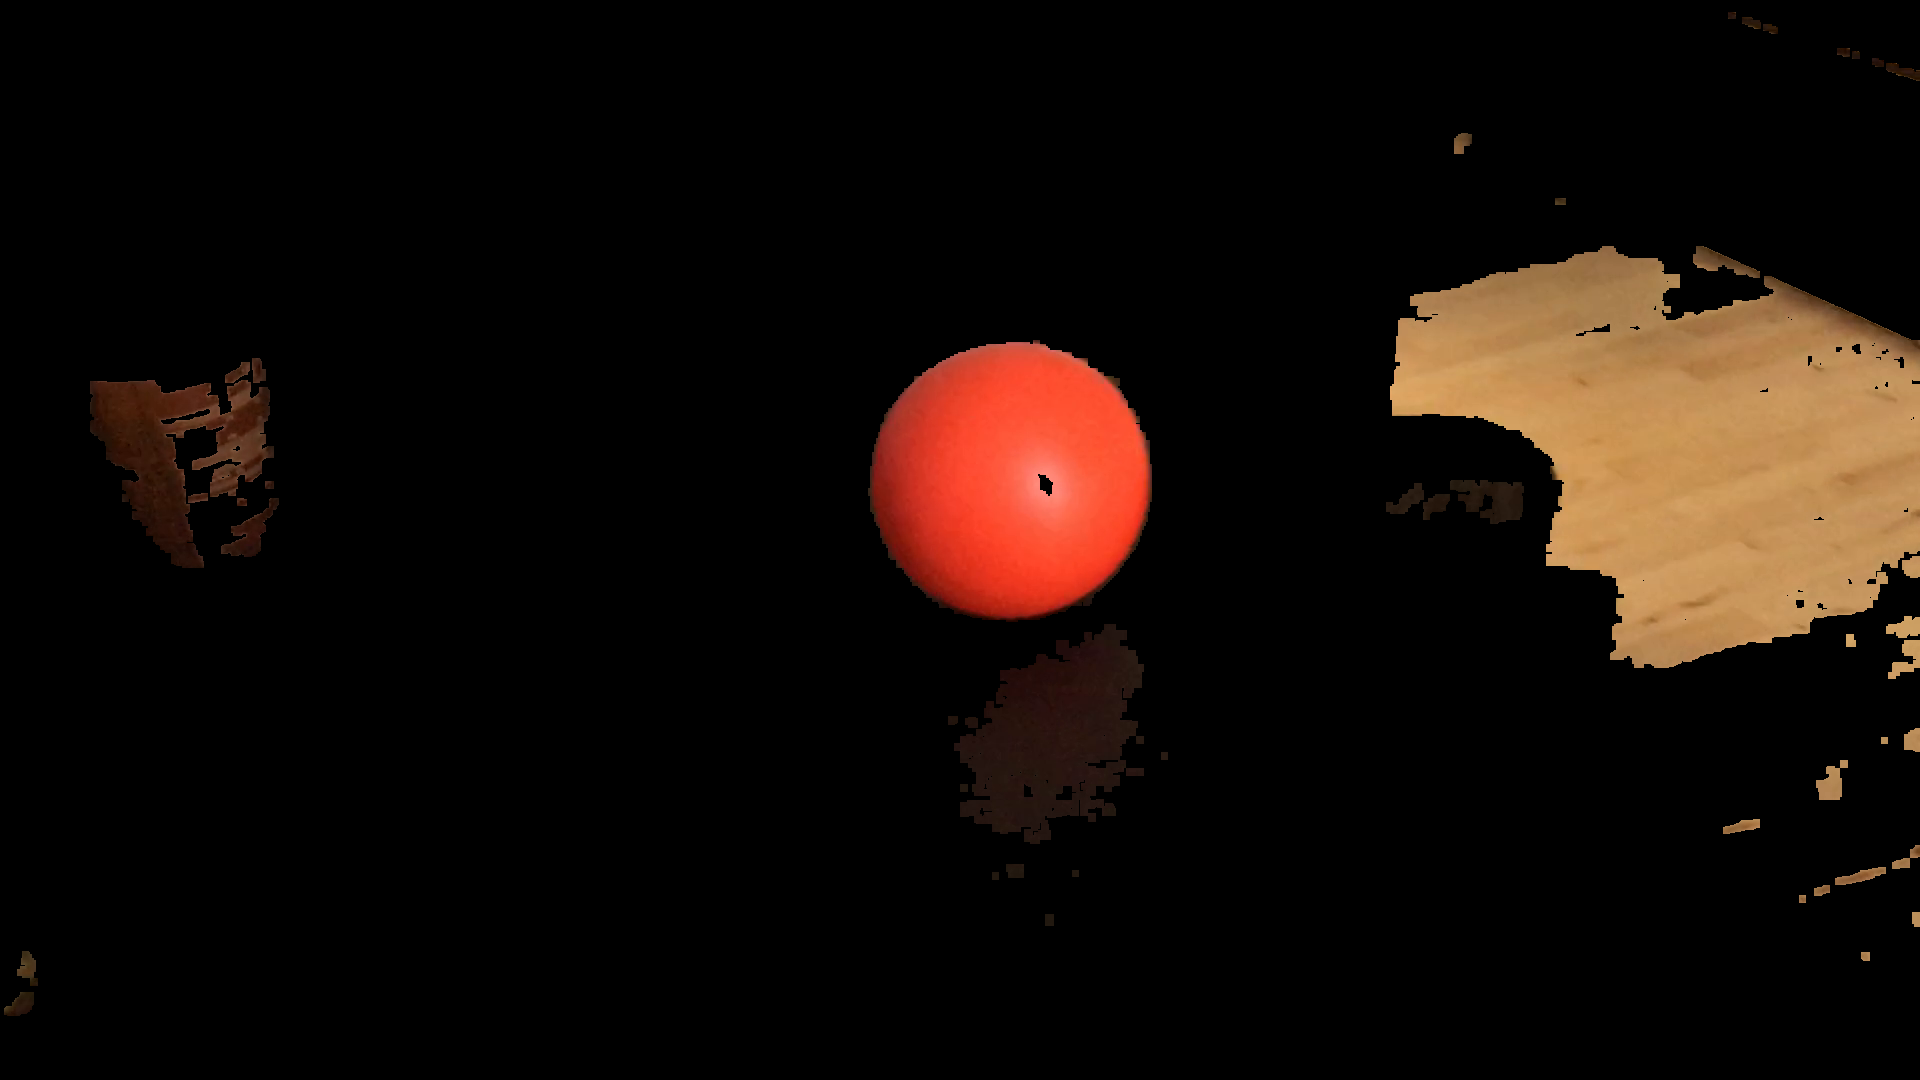Ball: (876, 335, 1159, 624)
